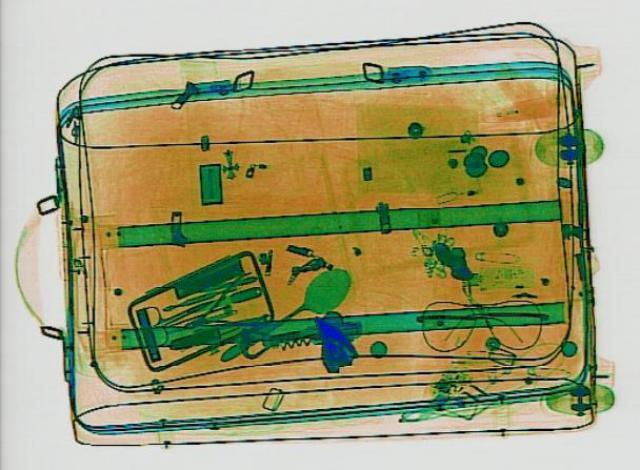Pliers: (164, 268, 286, 344)
Scissors: (119, 280, 227, 348)
